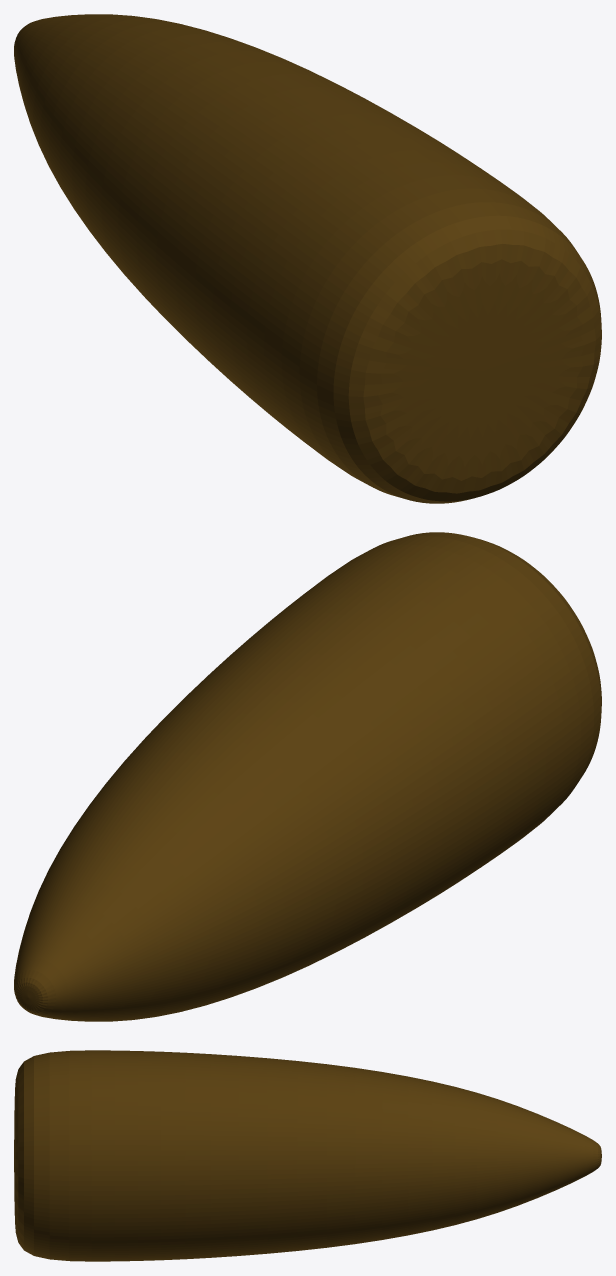
Rendered from bullet.fbx.
3 views of the same model, one above another, from view 1: azimuth 30°, elevation 25°; view 2: azimuth 150°, elevation 25°; view 3: azimuth 270°, elevation 25° (orthographic). The views are drawn at different scales.
Visible parts, largest first — view 1: Cylinder.003; view 2: Cylinder.003; view 3: Cylinder.003.
Boxes of the visible parts, bbox=[...] form: Cylinder.003: bbox=[14, 14, 601, 503]; Cylinder.003: bbox=[14, 532, 601, 1021]; Cylinder.003: bbox=[14, 1050, 601, 1261].
Size of the model in its own units: 1.53 by 1.53 by 4.26.
